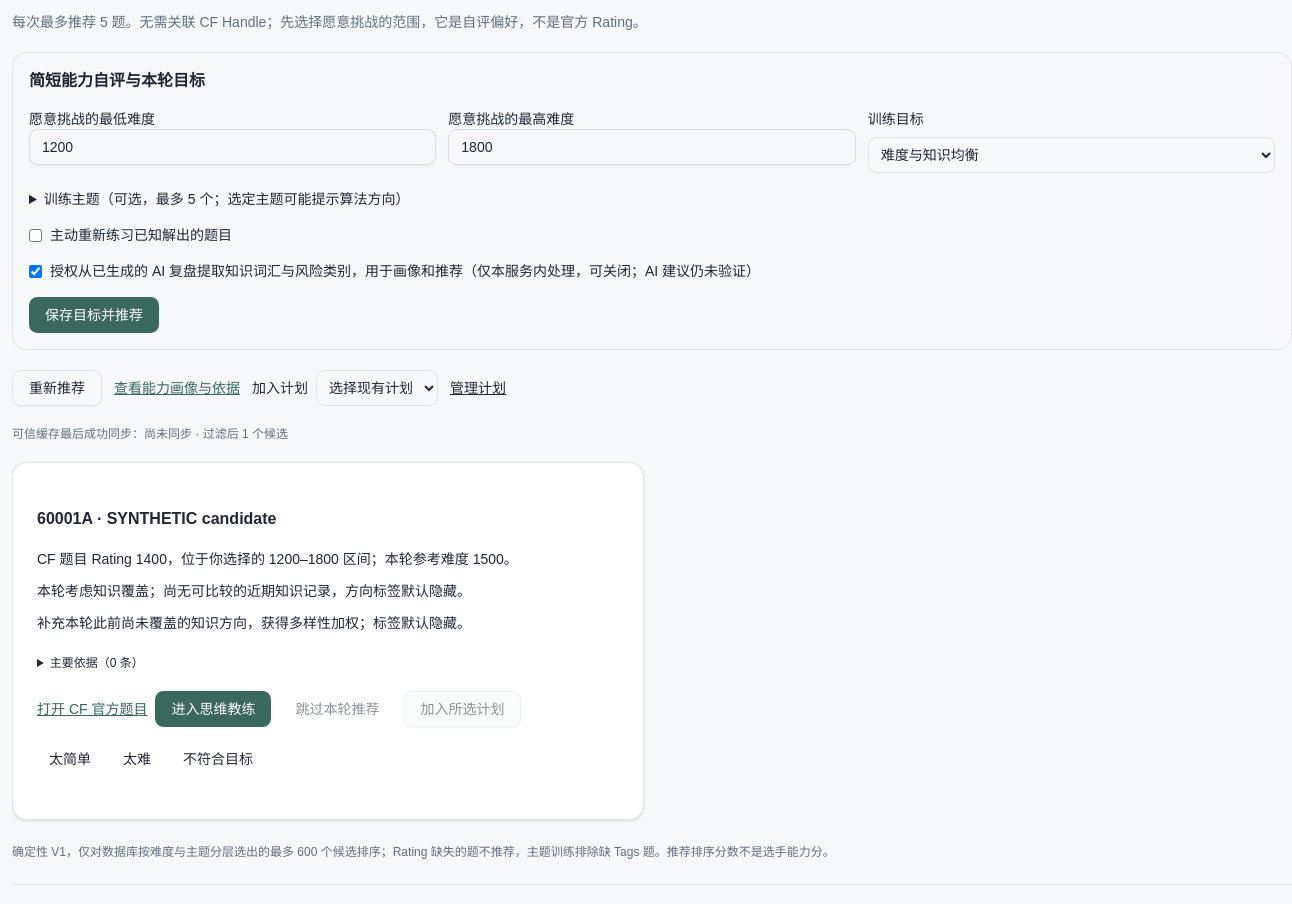
it: does not conflate a successful write with a failed subsequent revision read
Click the button "保存目标并推荐" at x=94, y=315, box [29,297,159,333]
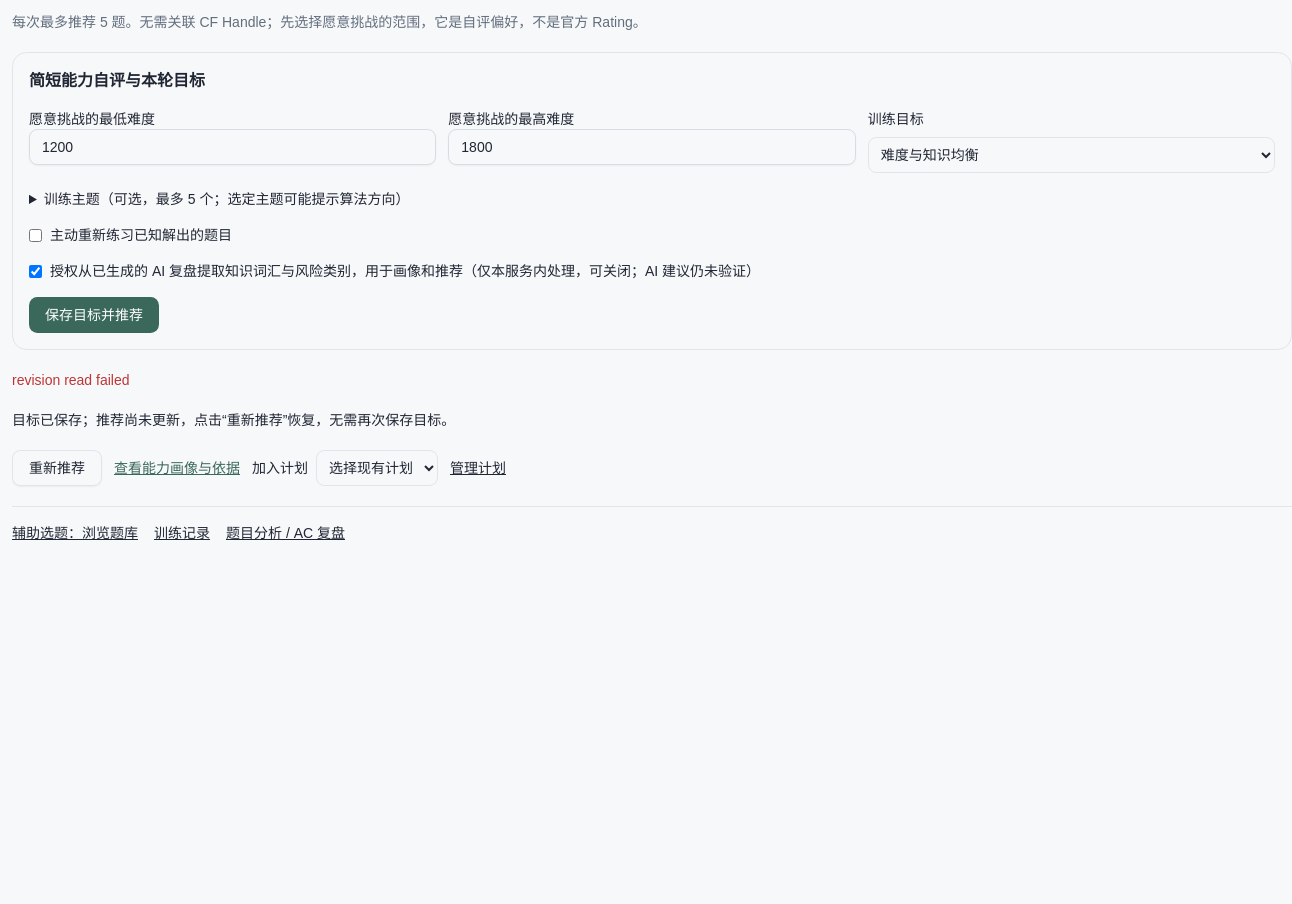
Now the text "revision read failed" is shown, box [12,372,130,388]
Now the heading "60001A · SYNTHETIC candidate" is gone
Now the text "目标已保存；推荐尚未更新，点击“重新推荐”恢复，无需再次保存目标。" is shown, box [12,412,455,428]
Click the button "重新推荐" at x=57, y=468, box [12,450,102,486]
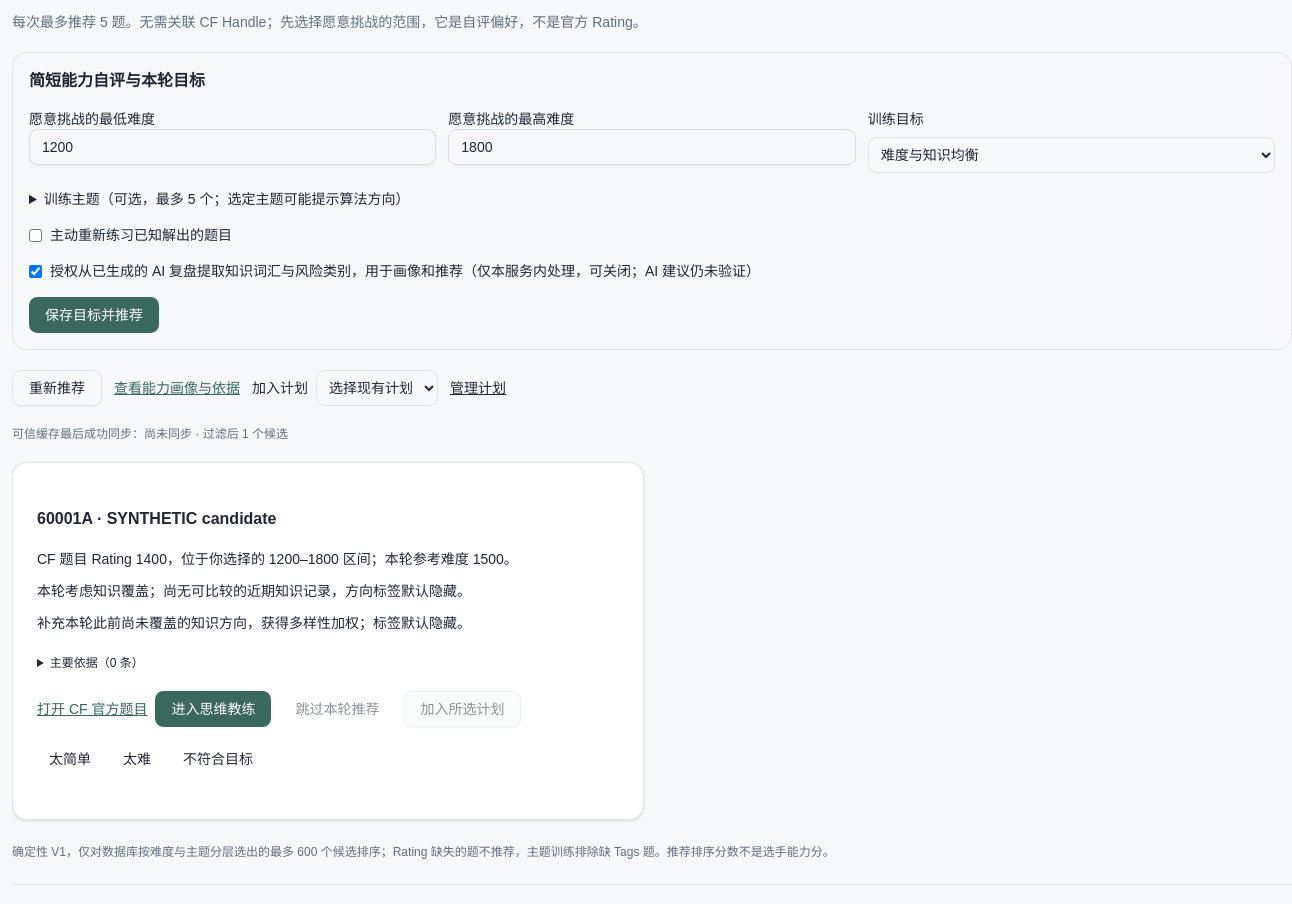
Now the heading "60001A · SYNTHETIC candidate" is shown, box [37,510,276,527]
